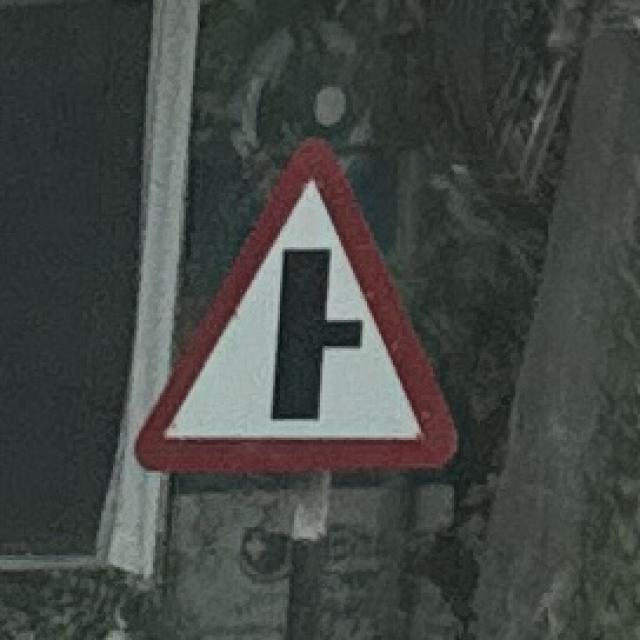SIDE_ROAD_RIGHT: (110, 122, 465, 485)
